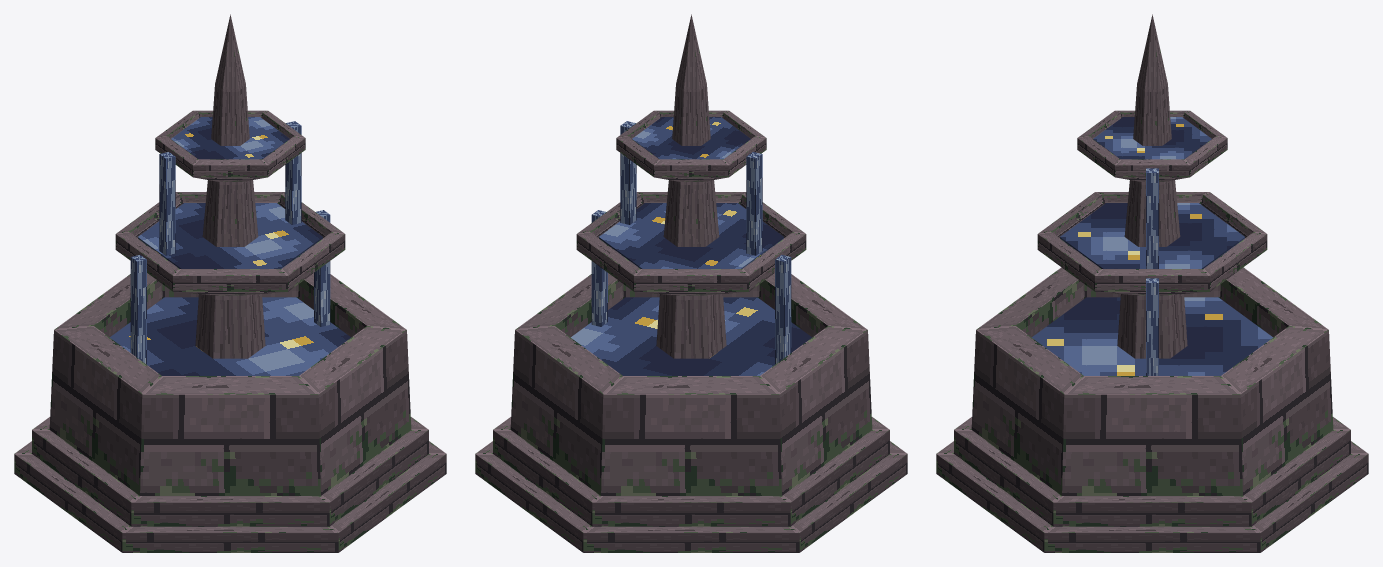
The model's file is well_of_sirius_bereit.glb.
3 renders of one model, left to right at view 1: azimuth 30°, elevation 25°; view 2: azimuth 150°, elevation 25°; view 3: azimuth 270°, elevation 25°, orthographic.
Visible parts, largest first — view 1: body, column, water_basin, water_bowl1, falls, water_bowl2; view 2: body, column, water_basin, water_bowl1, falls, water_bowl2; view 3: body, column, water_basin, water_bowl1, water_bowl2, falls.
Part boxes in pixels (x1=…): body: x1=14, y1=273, x2=446, y2=552; column: x1=115, y1=14, x2=345, y2=358; water_basin: x1=110, y1=297, x2=350, y2=375; water_bowl1: x1=138, y1=203, x2=322, y2=268; falls: x1=130, y1=121, x2=330, y2=364; water_bowl2: x1=171, y1=117, x2=289, y2=159; body: x1=475, y1=273, x2=907, y2=552; column: x1=576, y1=14, x2=806, y2=358; water_basin: x1=571, y1=297, x2=811, y2=375; water_bowl1: x1=599, y1=203, x2=783, y2=268; falls: x1=591, y1=121, x2=791, y2=364; water_bowl2: x1=632, y1=117, x2=750, y2=159; body: x1=936, y1=267, x2=1368, y2=552; column: x1=1037, y1=14, x2=1267, y2=358; water_basin: x1=1032, y1=297, x2=1272, y2=375; water_bowl1: x1=1060, y1=203, x2=1244, y2=268; water_bowl2: x1=1093, y1=117, x2=1211, y2=159; falls: x1=1146, y1=168, x2=1158, y2=375.
Size of the model in its own units: 1.7 by 2.3 by 1.96.
Materials: 6 (6 with a texture image).
